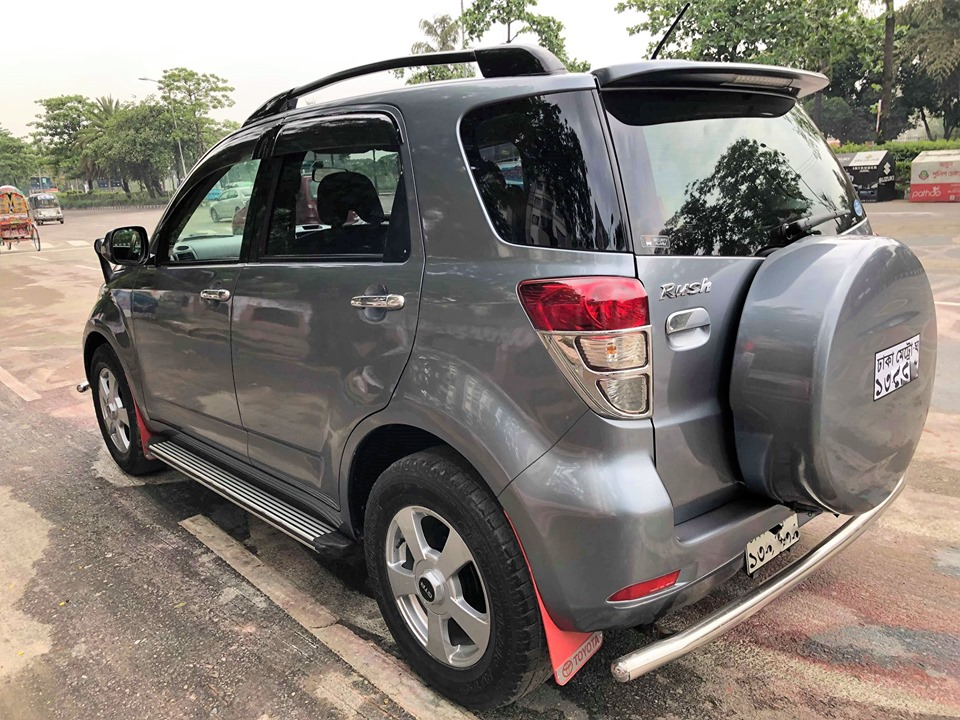car: (81, 67, 917, 693)
cng: (26, 192, 63, 225)
rickshaw: (1, 185, 39, 252)
